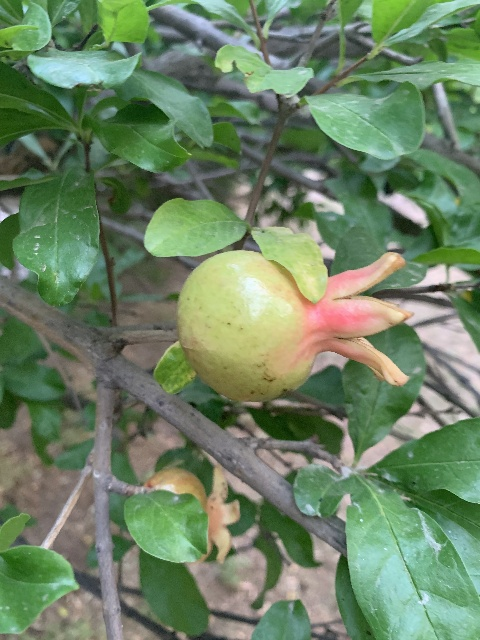early-fruit: (145, 466, 240, 563)
mid-growth: (177, 247, 415, 402)
